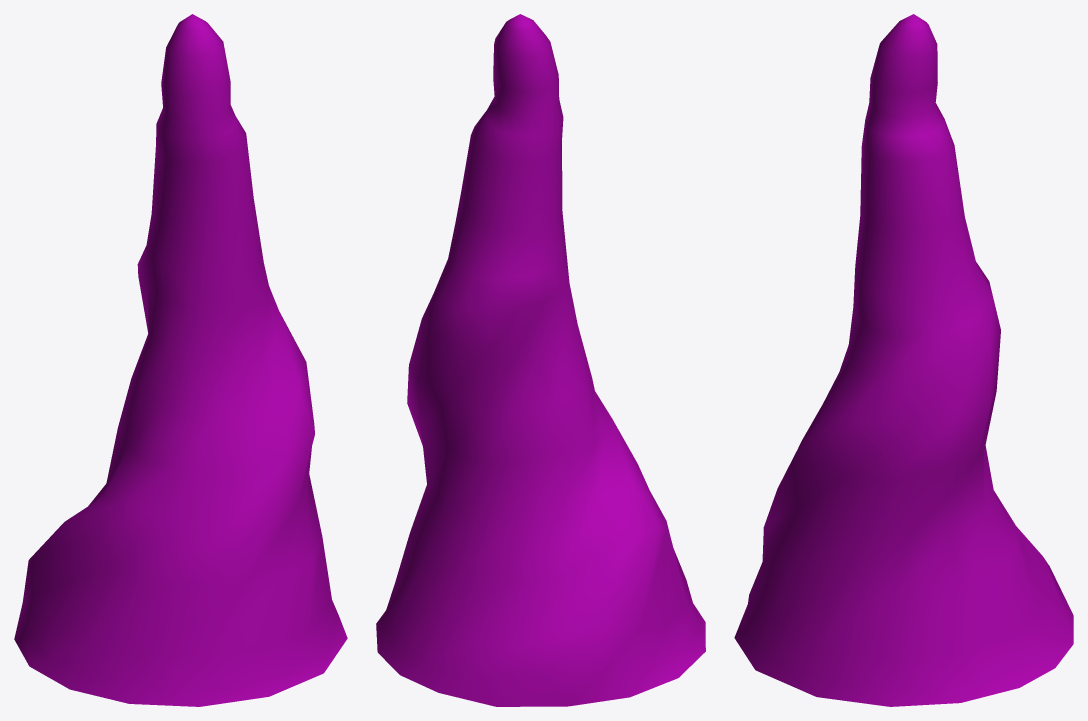
File: Stalagmite_D.fbx
3 views of the same model, side by side, from view 1: azimuth 30°, elevation 25°; view 2: azimuth 150°, elevation 25°; view 3: azimuth 270°, elevation 25° (orthographic). The views are drawn at different scales.
Visible parts, largest first — view 1: Stalagmite_D; view 2: Stalagmite_D; view 3: Stalagmite_D.
Part boxes in pixels (x1,y1,x2,y2): Stalagmite_D: [14, 14, 347, 706]; Stalagmite_D: [376, 14, 705, 706]; Stalagmite_D: [734, 14, 1073, 706].
Bounding box in the file's own units: 6.93 × 14.18 × 6.93.
